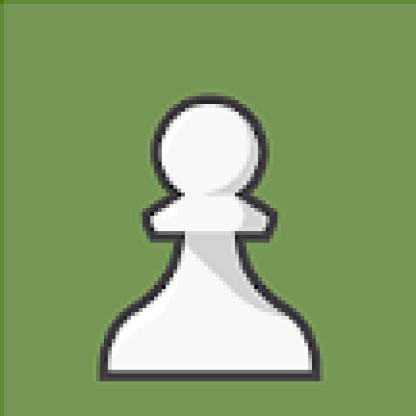White Pawn: (79, 47, 356, 399)
